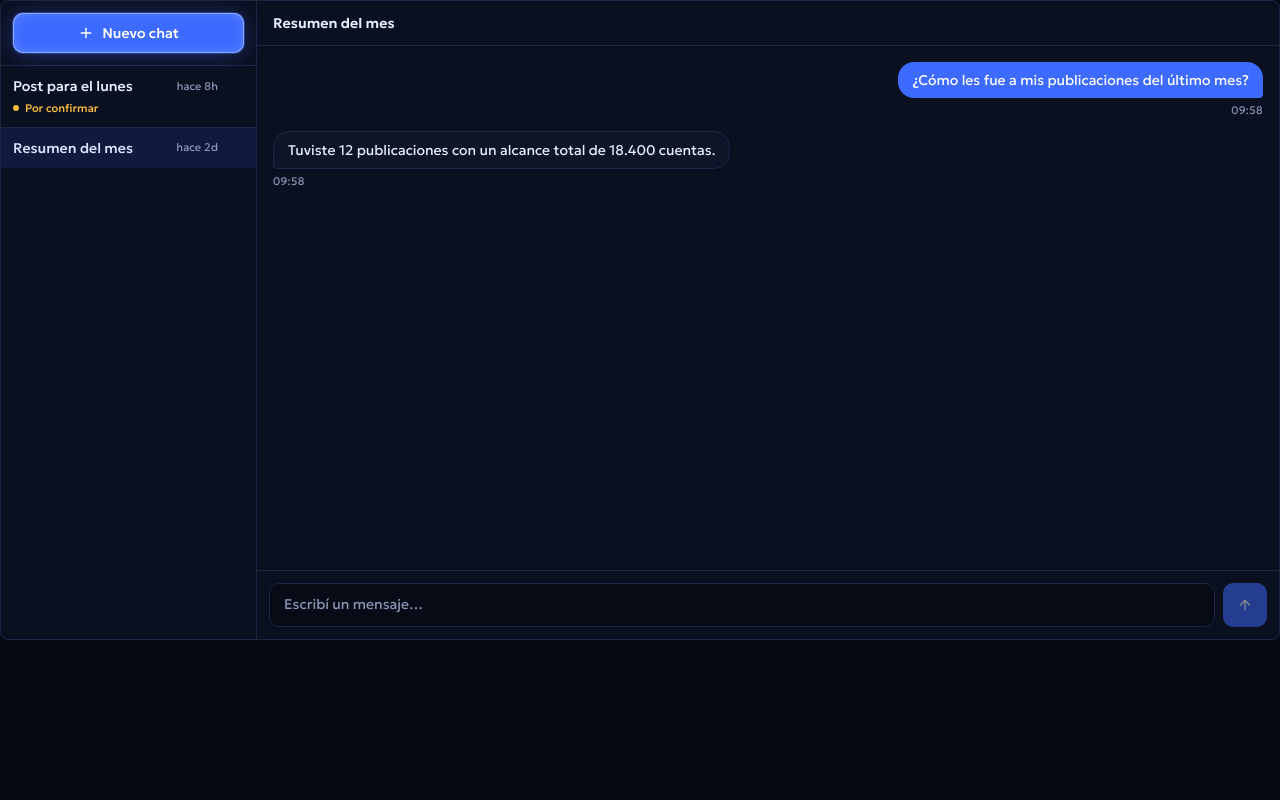
Test: Agente — errores del backend (503, 502, 409, 422) y sugerencias › ante un 502 muestra el message junto al composer, no repone el texto y vuelve a pedir el chat con el mensaje guardado
The image size is (1280, 800).
Check: the text "Tuviste 12 publicaciones con un alcance total de 18.400 cuentas." is shown, box [288, 140, 715, 160]
Type "Comparalo con el mes anterior" into the text box named "Mensaje para el agente".
click(742, 605); type("Comparalo con el mes anterior")  # box [269, 583, 1215, 627]
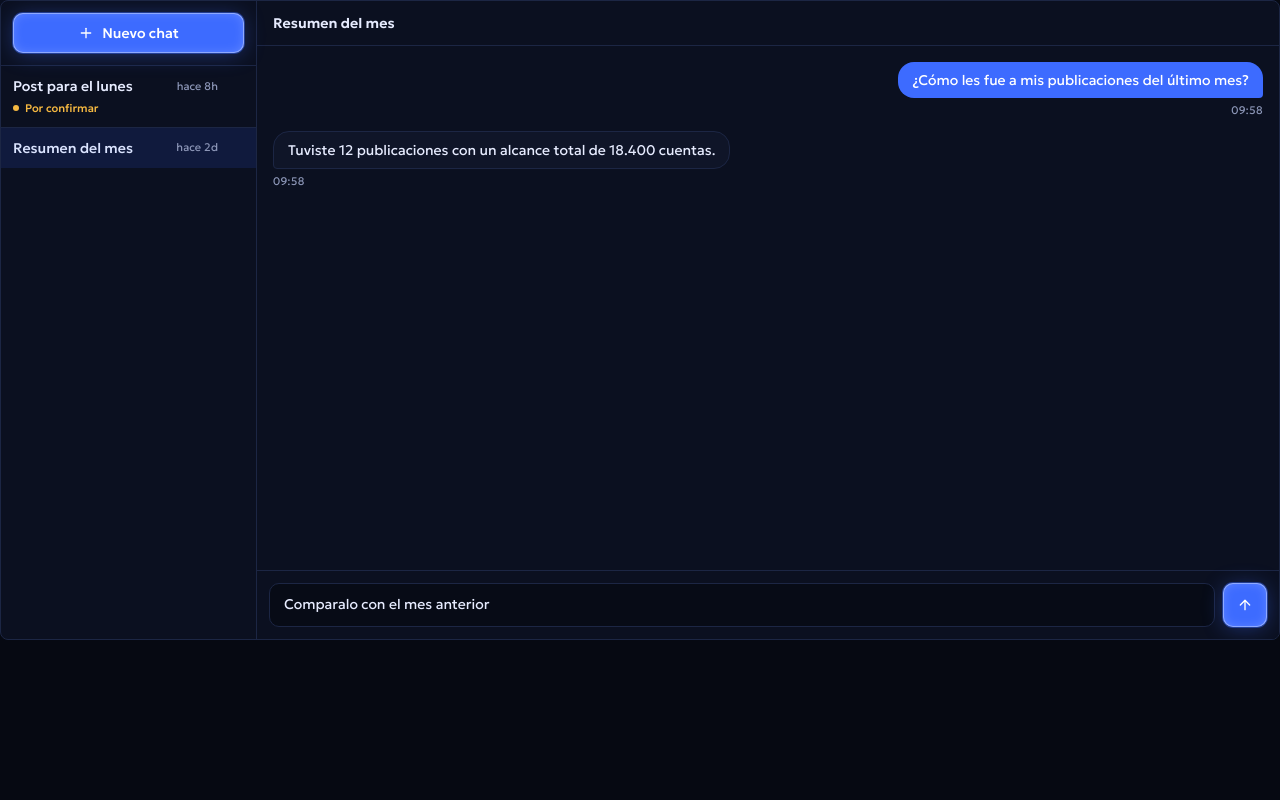
Click the button named "Enviar mensaje".
click(1245, 605)  # box [1223, 583, 1267, 627]
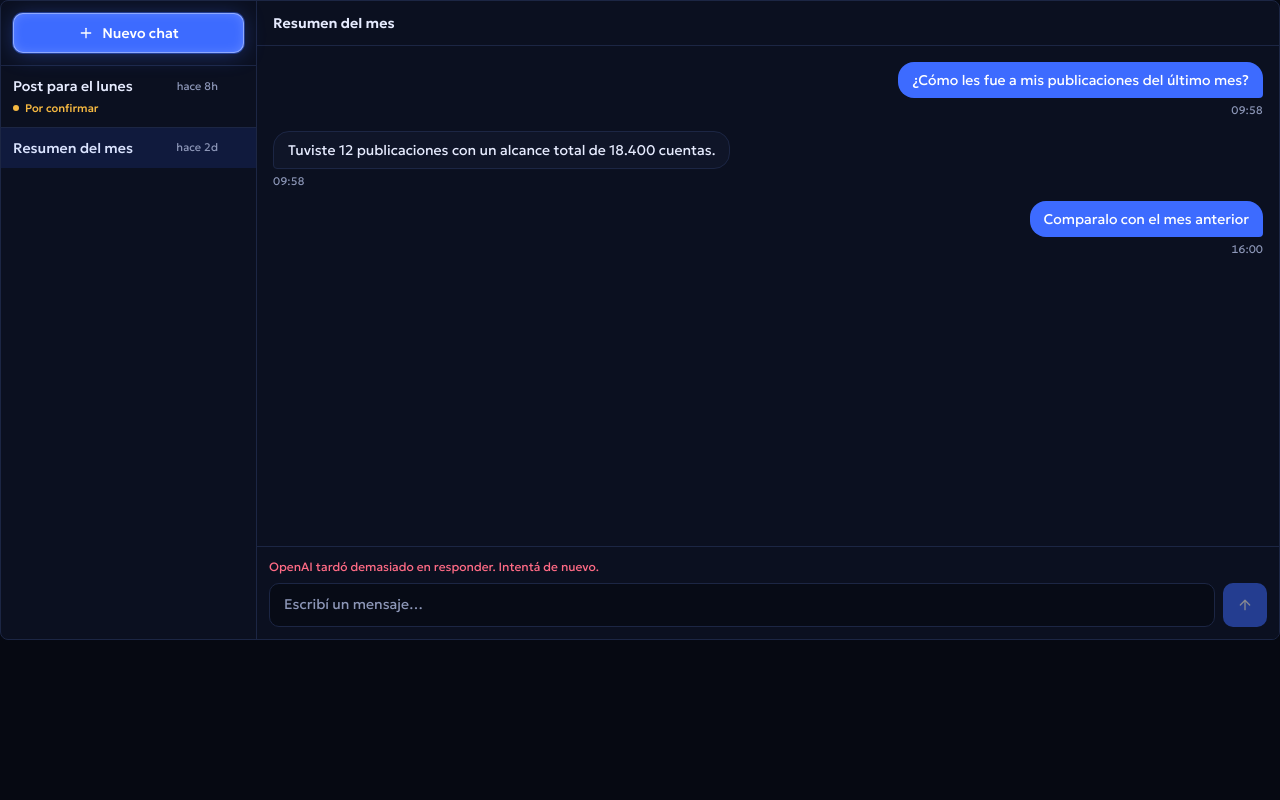
Check: the message reads "OpenAI tardó demasiado en responder. Intentá de nuevo.", box [269, 559, 599, 574]
Check: the text box named "Mensaje para el agente" is empty, box [269, 583, 1215, 627]
Check: the text "Comparalo con el mes anterior" is shown, box [1044, 209, 1249, 229]
